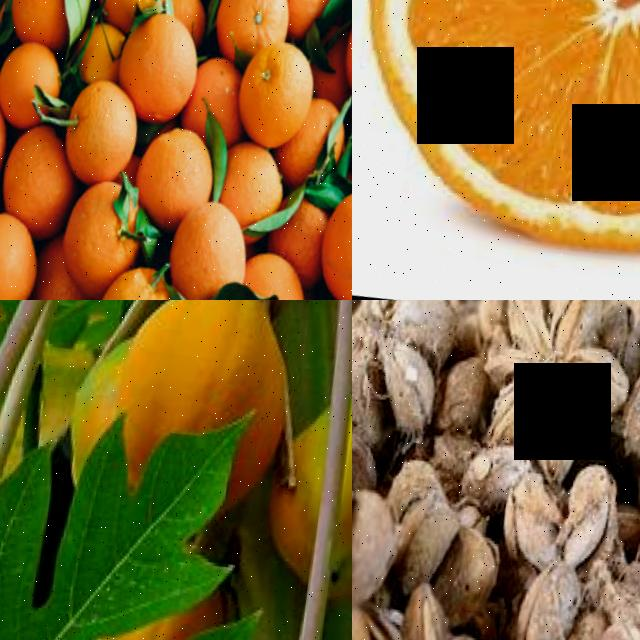orange: (352, 0, 640, 300), (54, 76, 143, 191), (51, 177, 141, 289), (227, 43, 317, 154), (125, 120, 221, 223), (126, 7, 204, 133), (160, 195, 253, 300), (0, 114, 72, 223), (210, 142, 287, 229), (0, 37, 68, 127), (302, 184, 352, 300), (207, 0, 296, 59), (0, 201, 41, 300), (234, 253, 308, 300), (78, 266, 179, 300), (4, 0, 69, 47), (90, 0, 166, 26)
pawpaw: (249, 380, 352, 617)
